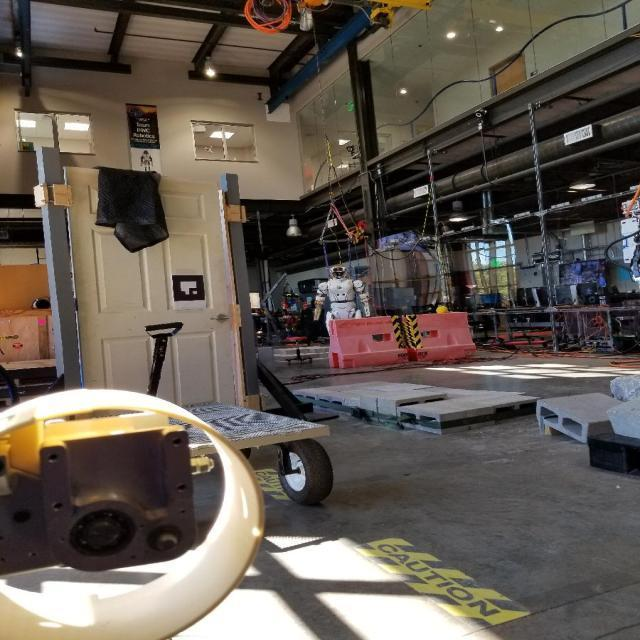door: (60, 163, 244, 454), (208, 312, 230, 324)
